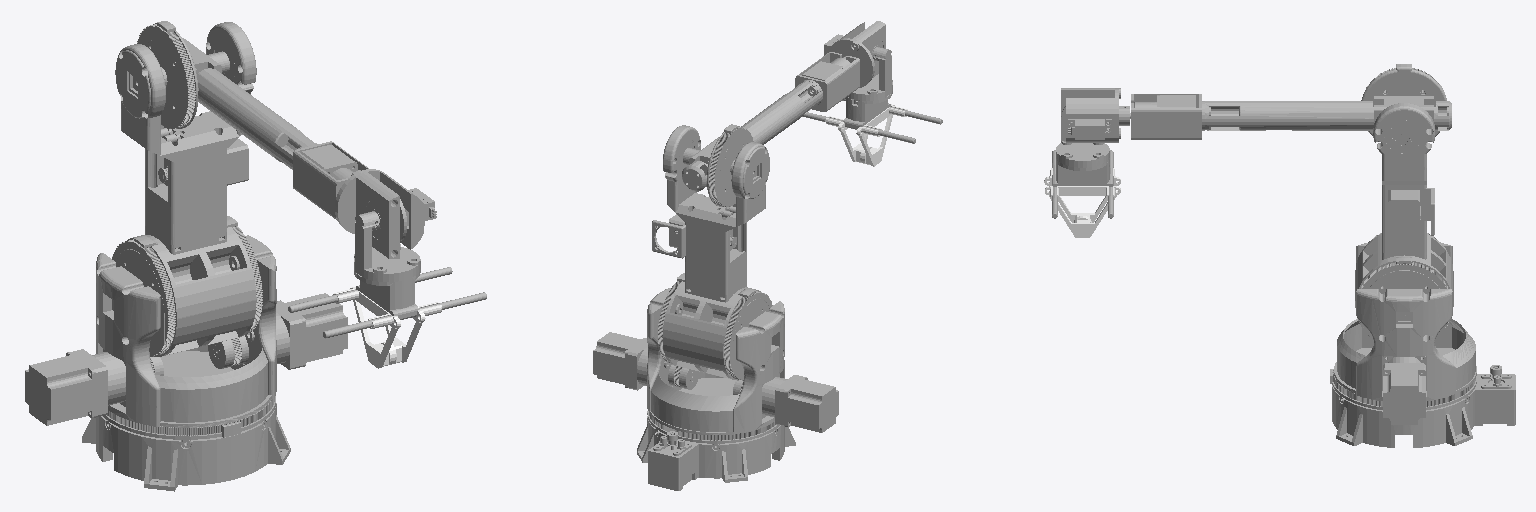
robot.urdf — era_description:
<?xml version="1.0" encoding="utf-8"?>
<!-- This URDF was automatically created by SolidWorks to URDF Exporter! Originally created by [author] ([email redacted]) 
     Commit Version: 1.6.0-4-g7f85cfe  Build Version: 1.6.7995.38578
     For more information, please see http://wiki.ros.org/sw_urdf_exporter -->
<robot
  name="era_description">
  <link
    name="link_0">
    <inertial>
      <origin
        xyz="8.1811E-06 0.064148 0.028491"
        rpy="0 0 0" />
      <mass
        value="1.4573" />
      <inertia
        ixx="0.0028441"
        ixy="-6.1635E-07"
        ixz="9.4583E-08"
        iyy="0.0021256"
        iyz="-2.3032E-05"
        izz="0.0044372" />
    </inertial>
    <visual>
      <origin
        xyz="0 0 0"
        rpy="0 0 0" />
      <geometry>
        <mesh
          filename="package://era_description/meshes/link_0.STL" />
      </geometry>
      <material
        name="">
        <color
          rgba="0.75294 0.75294 0.75294 1" />
      </material>
    </visual>
    <collision>
      <origin
        xyz="0 0 0"
        rpy="0 0 0" />
      <geometry>
        <mesh
          filename="package://era_description/meshes/link_0.STL" />
      </geometry>
    </collision>
  </link>
  <link
    name="link_1">
    <inertial>
      <origin
        xyz="1.4751E-06 8.8702E-05 0.1103"
        rpy="0 0 0" />
      <mass
        value="4.9252" />
      <inertia
        ixx="0.0070331"
        ixy="-3.8633E-07"
        ixz="-3.054E-07"
        iyy="0.0097895"
        iyz="7.2357E-06"
        izz="0.0085832" />
    </inertial>
    <visual>
      <origin
        xyz="0 0 0"
        rpy="0 0 0" />
      <geometry>
        <mesh
          filename="package://era_description/meshes/link_1.STL" />
      </geometry>
      <material
        name="">
        <color
          rgba="0.75294 0.75294 0.75294 1" />
      </material>
    </visual>
    <collision>
      <origin
        xyz="0 0 0"
        rpy="0 0 0" />
      <geometry>
        <mesh
          filename="package://era_description/meshes/link_1.STL" />
      </geometry>
    </collision>
  </link>
  <joint
    name="joint_1"
    type="revolute">
    <origin
      xyz="0 0 0"
      rpy="0 0 0" />
    <parent
      link="link_0" />
    <child
      link="link_1" />
    <axis
      xyz="0 0 1" />
    <limit
      lower="-3.1416"
      upper="3.1416"
      effort="7.1537"
      velocity="0.2188" />
    <dynamics
      damping="0"
      friction="0" />
  </joint>
  <link
    name="link_2">
    <inertial>
      <origin
        xyz="-1.2948E-05 -0.094414 0.0093196"
        rpy="0 0 0" />
      <mass
        value="2.9774" />
      <inertia
        ixx="0.0062534"
        ixy="7.0718E-06"
        ixz="1.2358E-05"
        iyy="0.0039574"
        iyz="-3.5071E-05"
        izz="0.0057159" />
    </inertial>
    <visual>
      <origin
        xyz="0 0 0"
        rpy="0 0 0" />
      <geometry>
        <mesh
          filename="package://era_description/meshes/link_2.STL" />
      </geometry>
      <material
        name="">
        <color
          rgba="0.75294 0.75294 0.75294 1" />
      </material>
    </visual>
    <collision>
      <origin
        xyz="0 0 0"
        rpy="0 0 0" />
      <geometry>
        <mesh
          filename="package://era_description/meshes/link_2.STL" />
      </geometry>
    </collision>
  </link>
  <joint
    name="joint_2"
    type="revolute">
    <origin
      xyz="0 0 0.18918"
      rpy="-1.5708 0 -1.5708" />
    <parent
      link="link_1" />
    <child
      link="link_2" />
    <axis
      xyz="0 0 1" />
    <limit
      lower="-1.5708"
      upper="1.5708"
      effort="86.211"
      velocity="0.1163" />
    <dynamics
      damping="0"
      friction="0" />
  </joint>
  <link
    name="link_3">
    <inertial>
      <origin
        xyz="-0.00037089 0.21175 -0.0022929"
        rpy="0 0 0" />
      <mass
        value="1.4008" />
      <inertia
        ixx="0.0041861"
        ixy="2.726E-05"
        ixz="9.3379E-06"
        iyy="0.00049492"
        iyz="-0.00018761"
        izz="0.0042431" />
    </inertial>
    <visual>
      <origin
        xyz="0 0 0"
        rpy="0 0 0" />
      <geometry>
        <mesh
          filename="package://era_description/meshes/link_3.STL" />
      </geometry>
      <material
        name="">
        <color
          rgba="0.75294 0.75294 0.75294 1" />
      </material>
    </visual>
    <collision>
      <origin
        xyz="0 0 0"
        rpy="0 0 0" />
      <geometry>
        <mesh
          filename="package://era_description/meshes/link_3.STL" />
      </geometry>
    </collision>
  </link>
  <joint
    name="joint_3"
    type="revolute">
    <origin
      xyz="0.00012374 -0.25568 0.00149"
      rpy="0 0 -1.5708" />
    <parent
      link="link_2" />
    <child
      link="link_3" />
    <axis
      xyz="0 0 1" />
    <limit
      lower="-3.927"
      upper="0.7854"
      effort="24.654"
      velocity="0.0635" />
    <dynamics
      damping="0"
      friction="0" />
  </joint>
  <link
    name="link_4">
    <inertial>
      <origin
        xyz="-7.0469E-06 -0.0073794 0.4189"
        rpy="0 0 0" />
      <mass
        value="0.34675" />
      <inertia
        ixx="0.0001352"
        ixy="3.0244E-08"
        ixz="-7.1861E-08"
        iyy="0.0001737"
        iyz="1.6894E-05"
        izz="0.00010582" />
    </inertial>
    <visual>
      <origin
        xyz="0 0 0"
        rpy="0 0 0" />
      <geometry>
        <mesh
          filename="package://era_description/meshes/link_4.STL" />
      </geometry>
      <material
        name="">
        <color
          rgba="0.75294 0.75294 0.75294 1" />
      </material>
    </visual>
    <collision>
      <origin
        xyz="0 0 0"
        rpy="0 0 0" />
      <geometry>
        <mesh
          filename="package://era_description/meshes/link_4.STL" />
      </geometry>
    </collision>
  </link>
  <joint
    name="joint_4"
    type="revolute">
    <origin
      xyz="0 0 0"
      rpy="-1.5708 0 0" />
    <parent
      link="link_3" />
    <child
      link="link_4" />
    <axis
      xyz="0 0 1" />
    <limit
      lower="-3.1416"
      upper="3.1416"
      effort="15.93"
      velocity="0.0982" />
    <dynamics
      damping="0"
      friction="0" />
  </joint>
  <link
    name="link_5">
    <inertial>
      <origin
        xyz="0.0606472275187821 9.21812568499547E-08 -0.00174871909358244"
        rpy="0 0 0" />
      <mass
        value="0.155635640889723" />
      <inertia
        ixx="0.00017520277960928"
        ixy="-3.98455352347032E-07"
        ixz="-9.07655924949397E-06"
        iyy="0.000134532482619006"
        iyz="1.05209048124804E-08"
        izz="0.00010461221367687" />
    </inertial>
    <visual>
      <origin
        xyz="0 0 0"
        rpy="0 0 0" />
      <geometry>
        <mesh
          filename="package://era_description/meshes/link_5.STL" />
      </geometry>
      <material
        name="">
        <color
          rgba="0.752941176470588 0.752941176470588 0.752941176470588 1" />
      </material>
    </visual>
    <collision>
      <origin
        xyz="0 0 0"
        rpy="0 0 0" />
      <geometry>
        <mesh
          filename="package://era_description/meshes/link_5.STL" />
      </geometry>
    </collision>
  </link>
  <joint
    name="joint_5"
    type="revolute">
    <origin
      xyz="0 0 0.4284"
      rpy="-1.5708 0 -3.1416" />
    <parent
      link="link_4" />
    <child
      link="link_5" />
    <axis
      xyz="0 0 1" />
    <limit
      lower="-3.1416"
      upper="0"
      effort="3.5"
      velocity="7.48" />
    <dynamics
      damping="0"
      friction="0" />
  </joint>
  <link
    name="link_6_1">
    <inertial>
      <origin
        xyz="8.8999E-07 -0.028749 0.015149"
        rpy="0 0 0" />
      <mass
        value="0.019387" />
      <inertia
        ixx="1.6008E-05"
        ixy="2.8705E-09"
        ixz="-1.7551E-09"
        iyy="1.1841E-05"
        iyz="2.6004E-06"
        izz="2.5312E-05" />
    </inertial>
    <visual>
      <origin
        xyz="0 0 0"
        rpy="0 0 0" />
      <geometry>
        <mesh
          filename="package://era_description/meshes/link_6_1.STL" />
      </geometry>
      <material
        name="">
        <color
          rgba="1 1 1 1" />
      </material>
    </visual>
    <collision>
      <origin
        xyz="0 0 0"
        rpy="0 0 0" />
      <geometry>
        <mesh
          filename="package://era_description/meshes/link_6_1.STL" />
      </geometry>
    </collision>
  </link>
  <joint
    name="joint_6_1"
    type="prismatic">
    <origin
      xyz="0.16115 0 0"
      rpy="0 0 -1.5708" />
    <parent
      link="link_5" />
    <child
      link="link_6_1" />
    <axis
      xyz="0 0 1" />
    <limit
      lower="0"
      upper="0.016"
      effort="218.75"
      velocity="0.1197" />
    <dynamics
      damping="0"
      friction="0" />
  </joint>
  <link
    name="link_6_2">
    <inertial>
      <origin
        xyz="4.2572E-06 -0.0288 0.013728"
        rpy="0 0 0" />
      <mass
        value="0.019424" />
      <inertia
        ixx="1.6036E-05"
        ixy="-5.7669E-10"
        ixz="2.141E-09"
        iyy="1.1905E-05"
        iyz="2.5998E-06"
        izz="2.5404E-05" />
    </inertial>
    <visual>
      <origin
        xyz="0 0 0"
        rpy="0 0 0" />
      <geometry>
        <mesh
          filename="package://era_description/meshes/link_6_2.STL" />
      </geometry>
      <material
        name="">
        <color
          rgba="1 1 1 1" />
      </material>
    </visual>
    <collision>
      <origin
        xyz="0 0 0"
        rpy="0 0 0" />
      <geometry>
        <mesh
          filename="package://era_description/meshes/link_6_2.STL" />
      </geometry>
    </collision>
  </link>
  <joint
    name="joint_6_2"
    type="prismatic">
    <origin
      xyz="0.16115 0 0"
      rpy="-3.1416 0 1.5708" />
    <parent
      link="link_5" />
    <child
      link="link_6_2" />
    <axis
      xyz="0 0 1" />
    <limit
      lower="0"
      upper="0.016"
      effort="218.75"
      velocity="0.1197" />
    <dynamics
      damping="0"
      friction="0" />
    <mimic
      joint="joint_6_1"
      multiplier="1"
      offset="0" />
  </joint>
</robot>

--- What the picture shows (computed from the rendered views, not written in the file) ---
The picture shows the robot from 3 angles, left to right: view 1: azimuth 30°, elevation 25°; view 2: azimuth 150°, elevation 25°; view 3: azimuth 270°, elevation 25°; orthographic projection.
Model era_description with 8 links and 7 joints (5 revolute, 2 prismatic), rooted at link_0, posed all joints at 0.
Links seen in each view (by area): view 1: link_1, link_2, link_3, link_0, link_5, link_4, link_6_2, link_6_1; view 2: link_2, link_1, link_3, link_0, link_5, link_4, link_6_2; view 3: link_1, link_2, link_3, link_0, link_4, link_5, link_6_1.
Boxes of the visible links, x1=… form: link_1: x1=25, y1=235, x2=347, y2=439; link_2: x1=112, y1=22, x2=262, y2=356; link_3: x1=133, y1=21, x2=368, y2=219; link_0: x1=82, y1=403, x2=290, y2=491; link_5: x1=288, y1=199, x2=486, y2=338; link_4: x1=335, y1=169, x2=436, y2=258; link_6_2: x1=333, y1=287, x2=400, y2=368; link_6_1: x1=385, y1=302, x2=441, y2=364; link_2: x1=652, y1=125, x2=772, y2=380; link_1: x1=593, y1=288, x2=838, y2=443; link_3: x1=682, y1=52, x2=859, y2=206; link_0: x1=637, y1=416, x2=795, y2=490; link_5: x1=802, y1=47, x2=942, y2=143; link_4: x1=824, y1=21, x2=885, y2=87; link_6_2: x1=856, y1=104, x2=907, y2=166; link_1: x1=1330, y1=242, x2=1476, y2=424; link_2: x1=1355, y1=103, x2=1453, y2=339; link_3: x1=1130, y1=64, x2=1451, y2=139; link_0: x1=1332, y1=365, x2=1515, y2=447; link_4: x1=1061, y1=88, x2=1129, y2=142; link_5: x1=1052, y1=106, x2=1113, y2=218; link_6_1: x1=1045, y1=186, x2=1120, y2=237.
Bounding box of the posed robot: 0.367 × 0.6276 × 0.5065 m (x, y, z).
8 mesh visuals loaded from 8 distinct referenced files (8 binary STL).